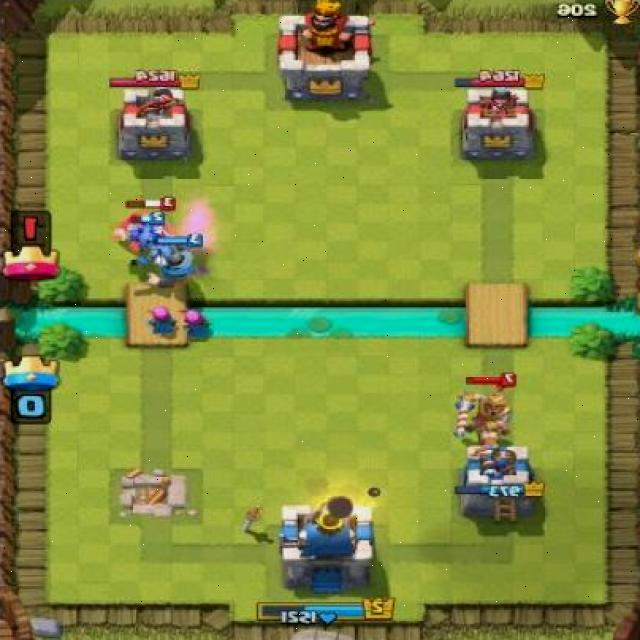Enemy-Knight: (112, 196, 178, 255)
Enemy-Prince: (452, 372, 518, 449)
Player-Archer: (145, 305, 178, 337), (181, 308, 210, 334)
Player-Knight: (144, 233, 206, 287)
Player-Minion: (126, 211, 167, 250)
